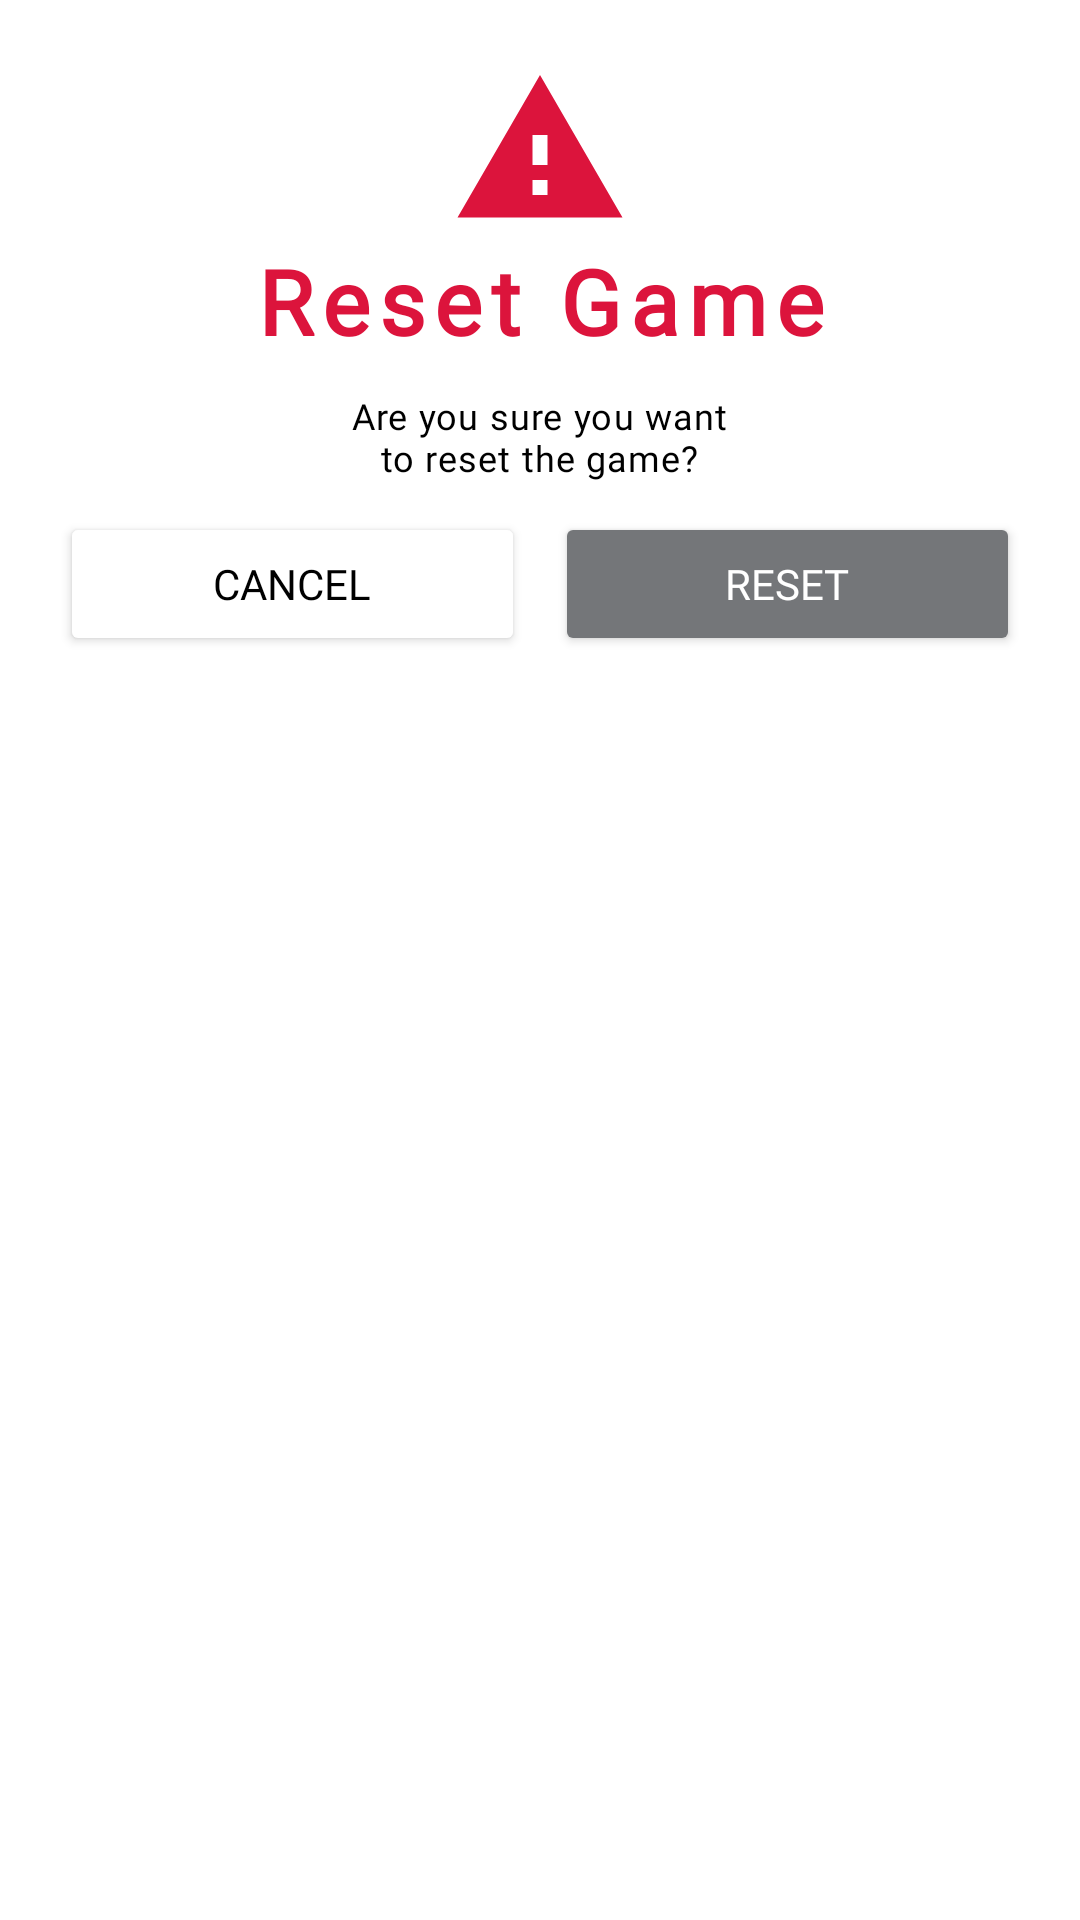

Named icons in this screenshot (1080×1920) and their centers, (x=x, y=y):
warning: (x=540, y=146)
